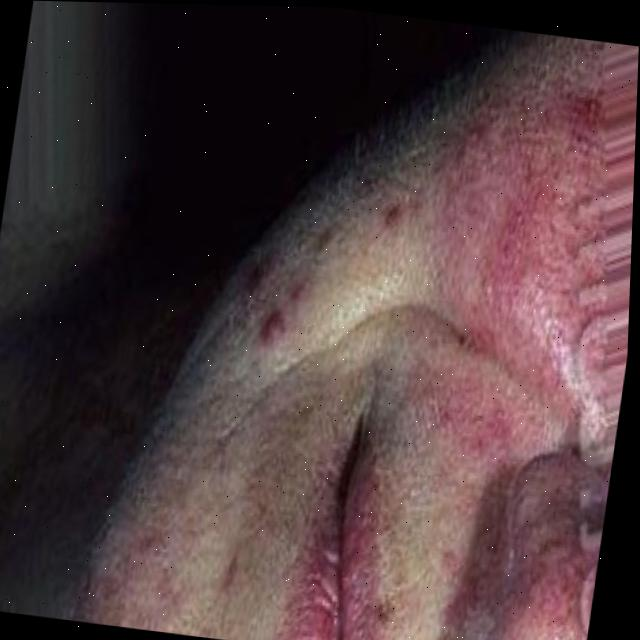Rosacea: (436, 119, 630, 385), (436, 393, 521, 454), (258, 316, 290, 350), (378, 201, 411, 227)
